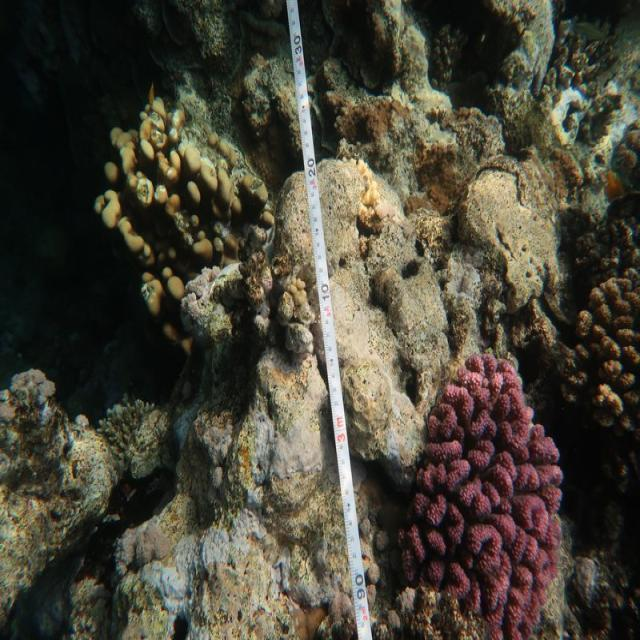Healthy Coral: (396, 334, 566, 640)
